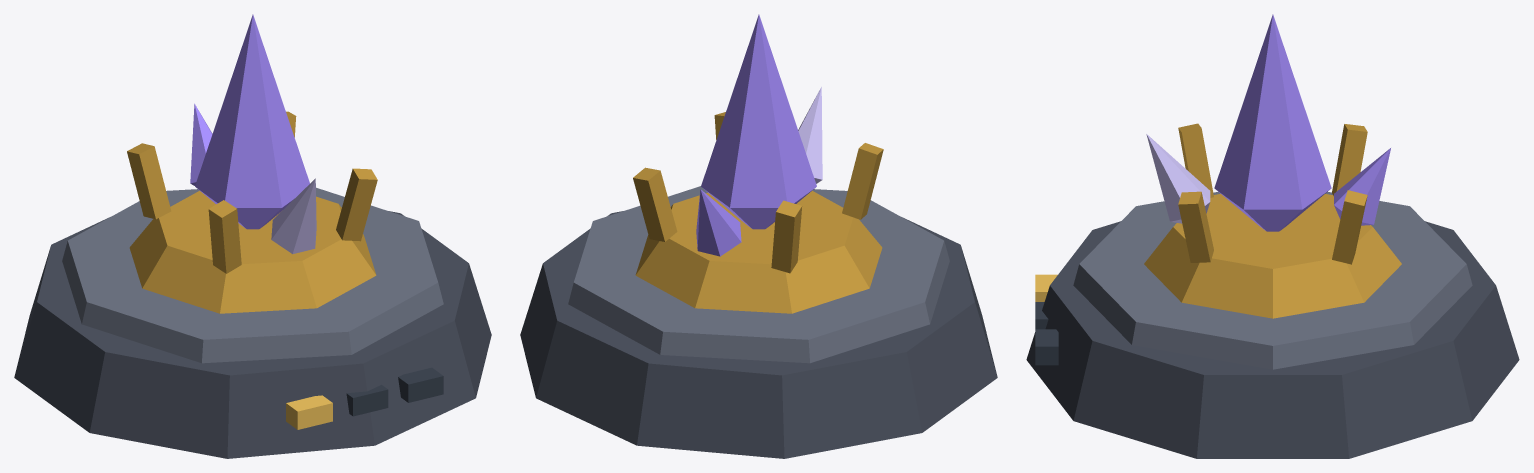
Rendered from frost-spire-0.glb.
3 renders of one model, left to right at view 1: azimuth 30°, elevation 25°; view 2: azimuth 150°, elevation 25°; view 3: azimuth 270°, elevation 25°, orthographic.
Visible parts, largest first — view 1: frost-spire-0; view 2: frost-spire-0; view 3: frost-spire-0.
Boxes of the visible parts, x1,y1,x2,y2 form: frost-spire-0: (14,14,491,458); frost-spire-0: (520,14,997,458); frost-spire-0: (1026,14,1519,458).
Size of the model in its own units: 0.7989 by 0.65 by 0.84.
1 material, 1 textured.
